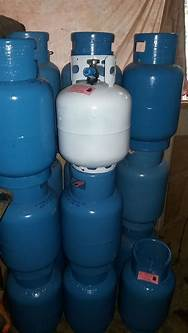blue_gas: (123, 33, 184, 152), (1, 37, 51, 177), (62, 164, 118, 264), (120, 238, 176, 333), (1, 184, 58, 271), (122, 150, 166, 233), (5, 269, 62, 333), (64, 263, 117, 331), (63, 31, 123, 84)
